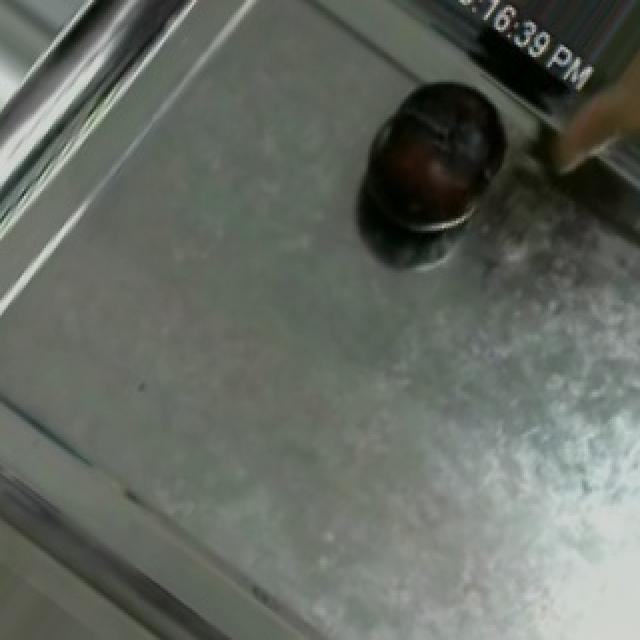Fruit: (346, 57, 528, 263)
